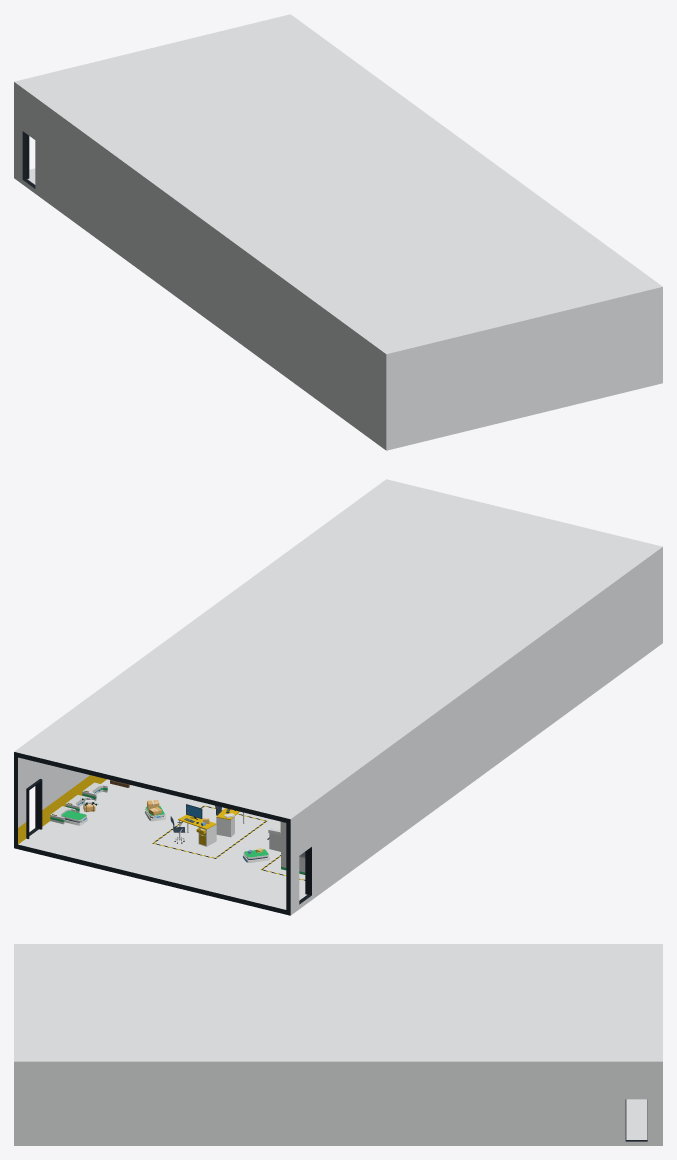
File: Room_delivery_003.fbx
3 renders of one model, top to bottom at view 1: azimuth 30°, elevation 25°; view 2: azimuth 150°, elevation 25°; view 3: azimuth 270°, elevation 25°, orthographic. The views are drawn at different scales.
Parts seen in each view (by area): view 1: Room_delivery_003; view 2: Room_delivery_003; view 3: Room_delivery_003.
Boxes of the visible parts, bbox=[...] form: Room_delivery_003: bbox=[14, 14, 662, 450]; Room_delivery_003: bbox=[14, 479, 662, 915]; Room_delivery_003: bbox=[14, 944, 662, 1145].
Bounding box in the file's own units: 1200 × 400 × 2798.
